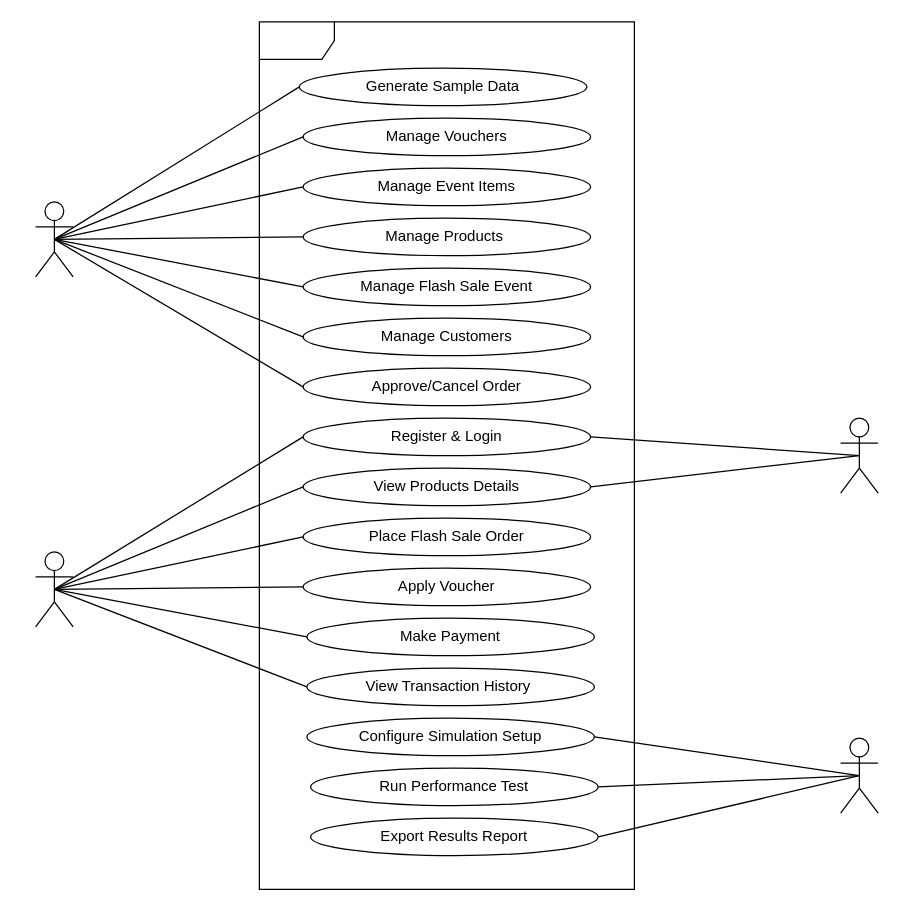
This 919x911 diagram has some shape labels left out. The box of each missing label's shape, as (x1, y1, x2, y2) in pixels:
Admin: (34, 201, 73, 277)
Customer: (34, 551, 73, 627)
Flash sale System: (258, 21, 634, 889)
Guest: (839, 417, 878, 493)
Researcher: (839, 737, 878, 813)
